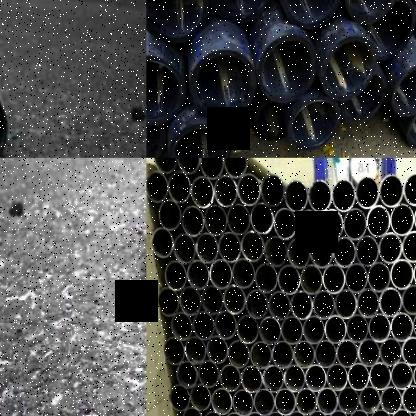pipe: (189, 50, 257, 118), (258, 34, 317, 104), (321, 36, 376, 102), (366, 0, 415, 61), (288, 97, 340, 151), (146, 56, 186, 126), (146, 0, 209, 42), (341, 72, 388, 122), (168, 123, 231, 158), (280, 0, 341, 29), (207, 0, 272, 23), (344, 0, 402, 25), (253, 99, 288, 140), (391, 63, 416, 116), (146, 112, 166, 158), (190, 173, 214, 209), (390, 202, 415, 236), (355, 175, 380, 209), (379, 173, 404, 207), (332, 177, 356, 212), (168, 169, 192, 204), (261, 173, 285, 207), (284, 178, 308, 212), (250, 201, 274, 235), (264, 234, 288, 268), (274, 206, 298, 240), (228, 202, 252, 236), (214, 174, 238, 208), (297, 207, 321, 241), (344, 207, 368, 240), (332, 235, 356, 268), (310, 236, 334, 269), (356, 234, 380, 267), (232, 257, 256, 290), (378, 231, 402, 264), (308, 179, 332, 212), (366, 204, 390, 237), (204, 203, 228, 236), (238, 173, 262, 206), (287, 236, 311, 269), (159, 198, 182, 232), (390, 258, 414, 290), (320, 208, 344, 240), (379, 286, 403, 318), (219, 230, 242, 263), (182, 204, 205, 237), (196, 231, 219, 264), (146, 169, 168, 203), (368, 261, 392, 292), (390, 311, 414, 342), (245, 288, 269, 319), (227, 338, 251, 369), (258, 315, 282, 346), (151, 227, 174, 259), (173, 232, 196, 264), (242, 230, 264, 263), (312, 289, 336, 319), (302, 315, 326, 345), (390, 360, 414, 390), (323, 263, 346, 294), (290, 289, 313, 320), (335, 288, 358, 319), (255, 262, 278, 293), (236, 313, 259, 344), (223, 284, 246, 315), (187, 259, 210, 290), (278, 263, 300, 295), (210, 258, 232, 290), (166, 259, 188, 291), (357, 288, 380, 318), (368, 312, 391, 342), (268, 290, 291, 320), (300, 264, 323, 294), (280, 315, 303, 345), (250, 340, 273, 370), (346, 313, 369, 343), (193, 310, 216, 340), (201, 285, 224, 315), (380, 336, 402, 367), (215, 310, 237, 341), (206, 334, 228, 365), (180, 285, 202, 316), (219, 363, 242, 392), (346, 263, 368, 293), (324, 314, 346, 344), (358, 337, 380, 367), (370, 361, 392, 391), (294, 339, 316, 369), (158, 286, 180, 316), (172, 311, 194, 341), (185, 335, 207, 365), (336, 339, 359, 367), (315, 339, 337, 368), (348, 362, 370, 391), (272, 340, 294, 369), (284, 364, 306, 393), (198, 359, 220, 388), (164, 336, 186, 365), (263, 364, 285, 393), (380, 386, 402, 414), (326, 363, 348, 391), (241, 365, 263, 393), (176, 360, 198, 388), (359, 386, 381, 414), (232, 388, 254, 416), (305, 364, 327, 392), (254, 388, 276, 416), (296, 387, 318, 415), (211, 387, 233, 415), (338, 386, 360, 414), (190, 383, 212, 411), (275, 388, 297, 416), (316, 387, 338, 415), (170, 384, 191, 412), (200, 158, 224, 179), (401, 230, 416, 262), (224, 158, 248, 178), (401, 283, 416, 315), (402, 171, 416, 205), (0, 80, 6, 157), (406, 101, 416, 147), (401, 335, 416, 365), (401, 385, 416, 413), (152, 158, 178, 173), (176, 158, 200, 174), (182, 405, 203, 416), (391, 407, 413, 416), (370, 407, 391, 416), (327, 408, 349, 416), (306, 408, 328, 416), (349, 408, 370, 416), (202, 408, 223, 416), (285, 409, 307, 416), (265, 409, 286, 416), (245, 411, 266, 416), (224, 411, 244, 416), (413, 257, 416, 289), (413, 308, 416, 340), (413, 359, 416, 390), (414, 201, 416, 234)
